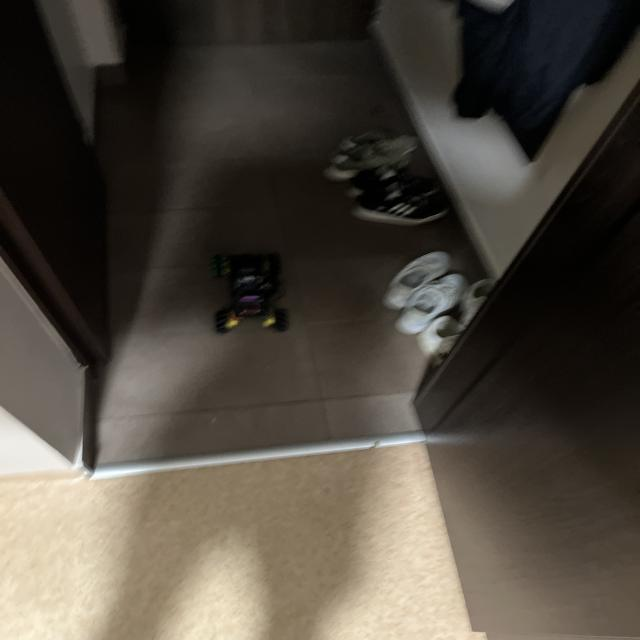robot: (211, 253, 289, 334)
